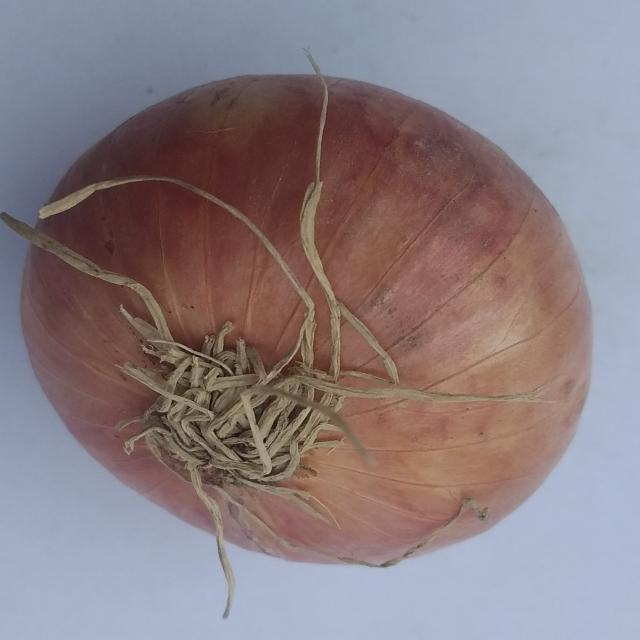onion: (0, 48, 599, 621)
